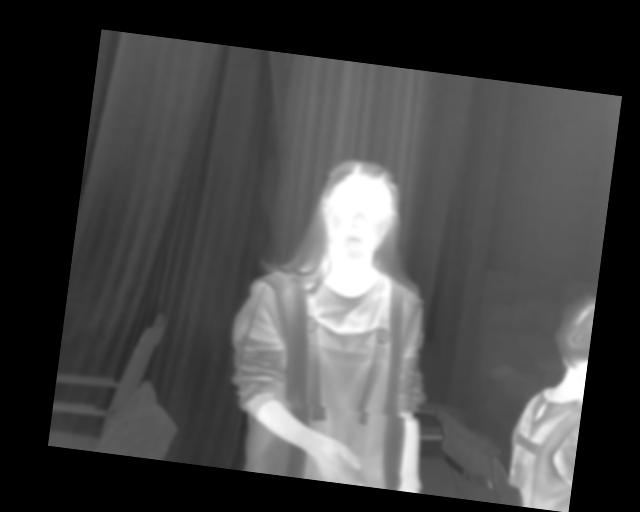face: (314, 156, 404, 264)
